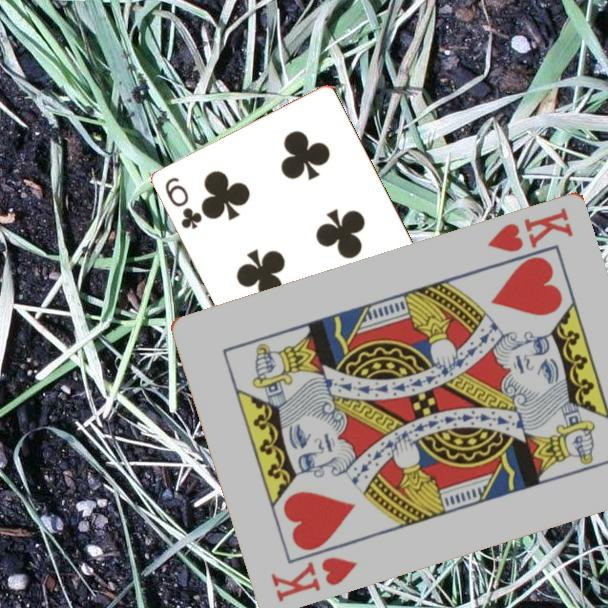c06: (162, 174, 205, 232)
h13: (267, 553, 361, 605), (484, 203, 576, 255)
